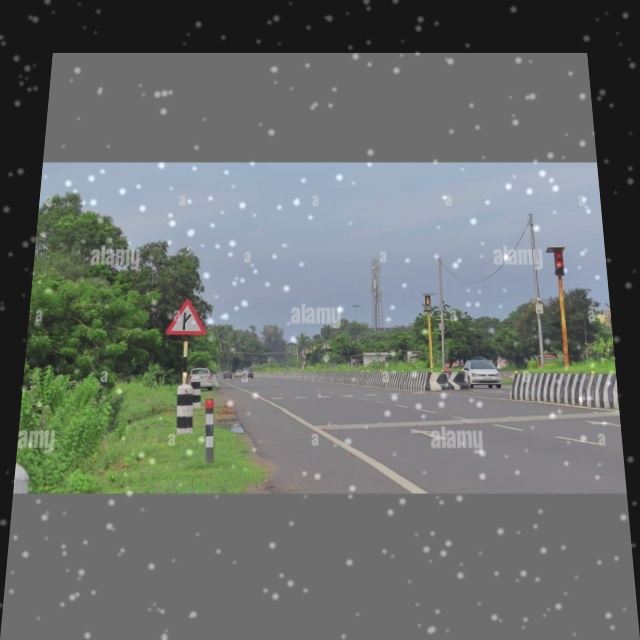Y_Intersection: (162, 298, 210, 342)
